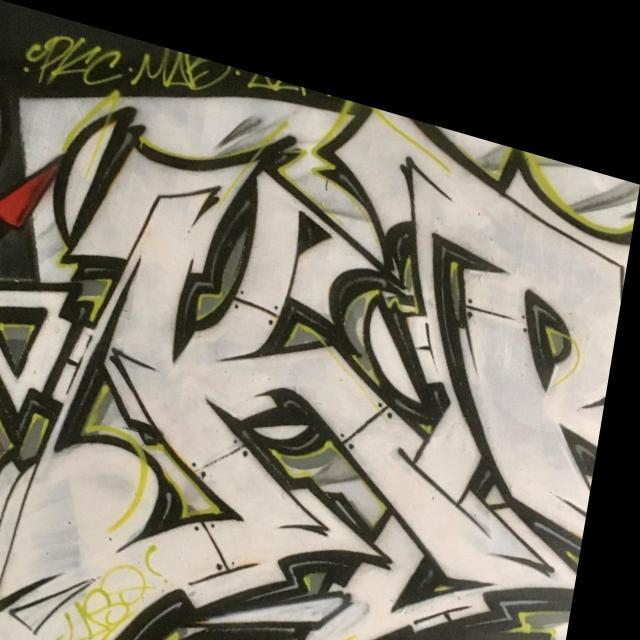-: (0, 7, 640, 640), (55, 500, 192, 640), (0, 2, 134, 112), (123, 30, 248, 111), (240, 56, 346, 102), (306, 628, 570, 640)
